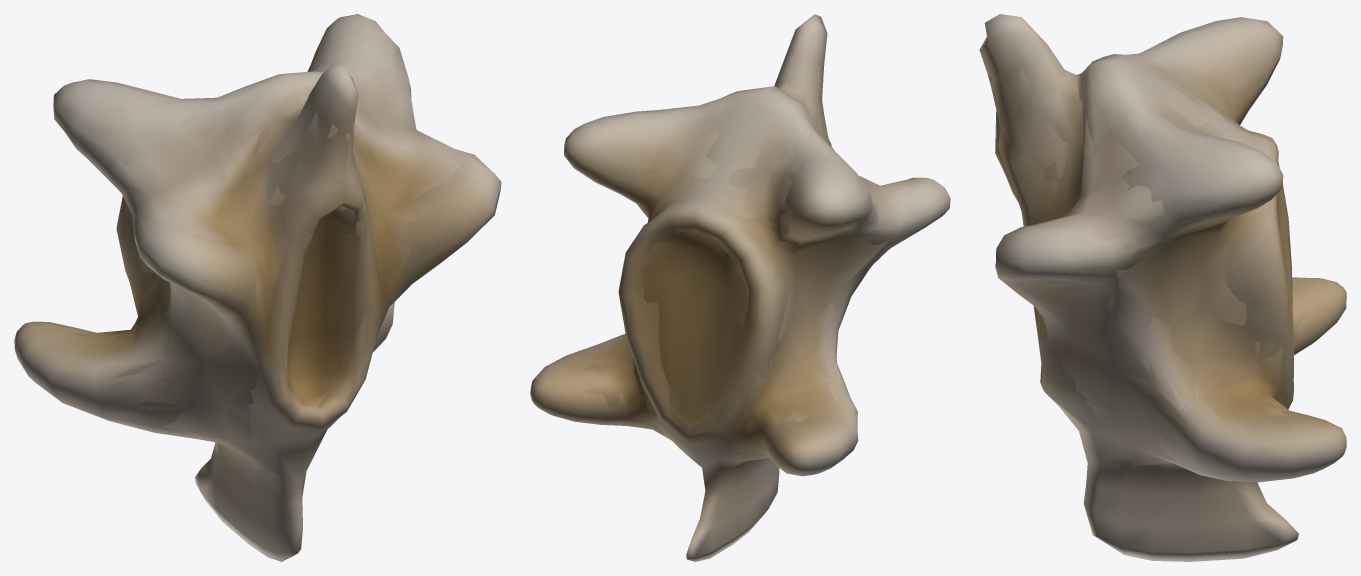
Rendered from vertebra cervicalis 4.fbx.
3 views of the same model, side by side, from view 1: azimuth 30°, elevation 25°; view 2: azimuth 150°, elevation 25°; view 3: azimuth 270°, elevation 25° (orthographic). The views are drawn at different scales.
Parts seen in each view (by area): view 1: vertebra cervicalis 4, vertebra cervicalis 4 low; view 2: vertebra cervicalis 4, vertebra cervicalis 4 low; view 3: vertebra cervicalis 4, vertebra cervicalis 4 low.
Part boxes in pixels (left/top/right/bottom): vertebra cervicalis 4: left=14, top=14, right=501, bottom=561; vertebra cervicalis 4 low: left=75, top=51, right=460, bottom=497; vertebra cervicalis 4: left=530, top=14, right=950, bottom=561; vertebra cervicalis 4 low: left=582, top=63, right=914, bottom=493; vertebra cervicalis 4: left=979, top=14, right=1346, bottom=561; vertebra cervicalis 4 low: left=987, top=36, right=1315, bottom=494.
Bounding box in the file's own units: 2.93 × 4.36 × 2.65.
Materials: 1 (1 with a texture image).
